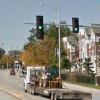Traffic light: (22, 10, 84, 39)
